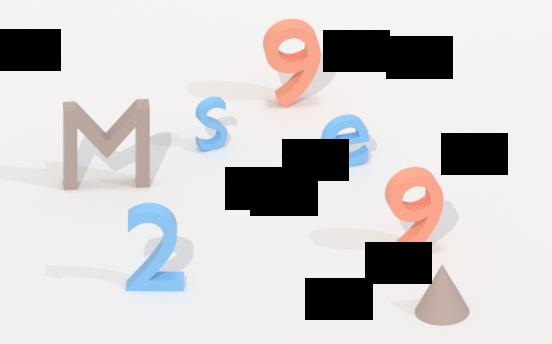2: (119, 197, 189, 299)
9: (259, 20, 326, 111), (386, 166, 447, 257)
M-hoa: (61, 95, 154, 196)
e: (318, 113, 376, 168)
non: (411, 264, 478, 328)
s: (187, 94, 234, 156)
